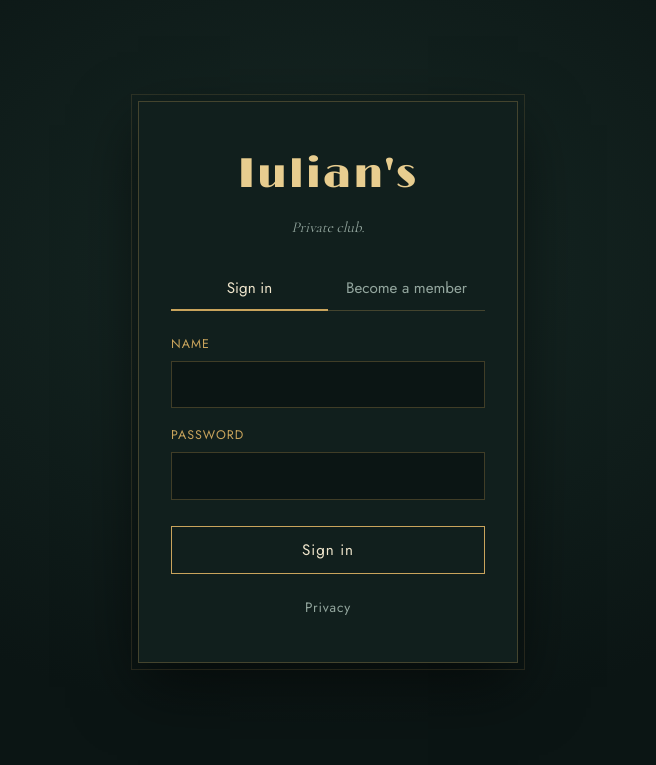
AccessView › hacerse socio pide email, manda el idioma actual y marca el campo que falla
Click the button "Become a member". click: coordinates (406, 289)
box: [328,267,485,311]
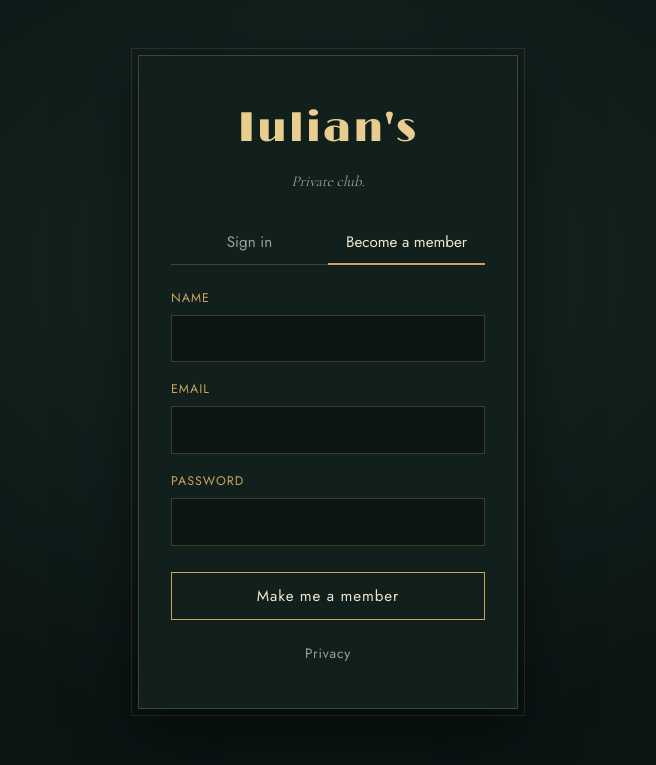
Type "dwight" into the field named "username". click: coordinates (328, 339)
box: [171,315,485,362]
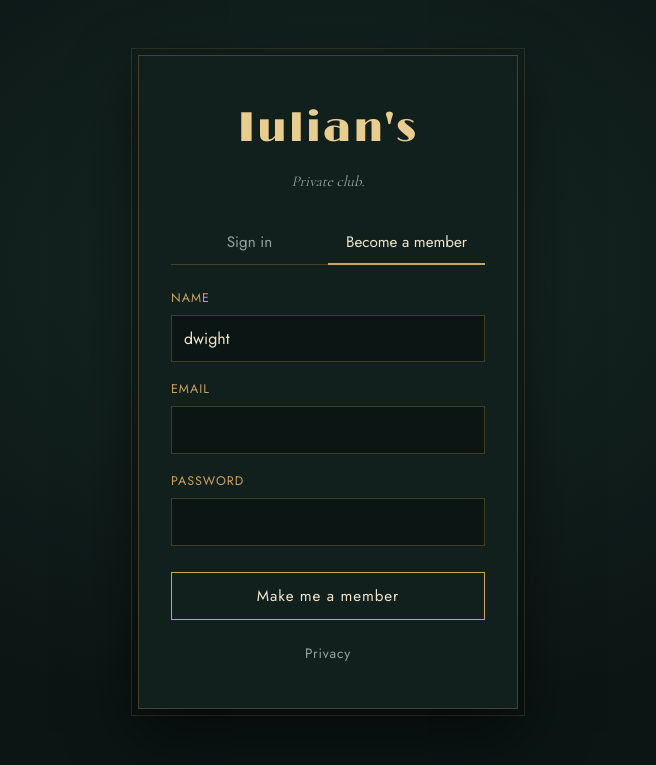
Type "no-es-un-email" into the field named "email". click: coordinates (328, 430)
box: [171,406,485,454]
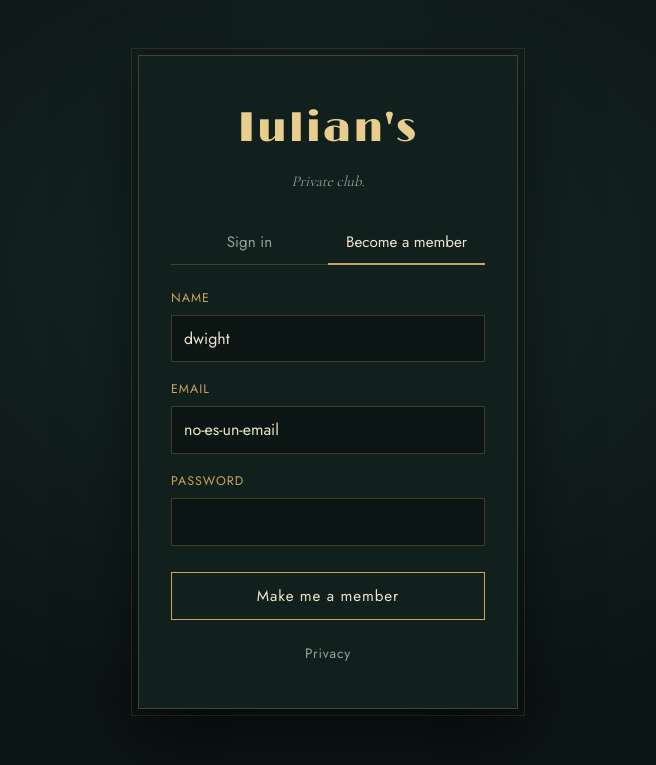
Type "12345678" into the password field named "password". click: coordinates (328, 522)
box: [171,498,485,546]
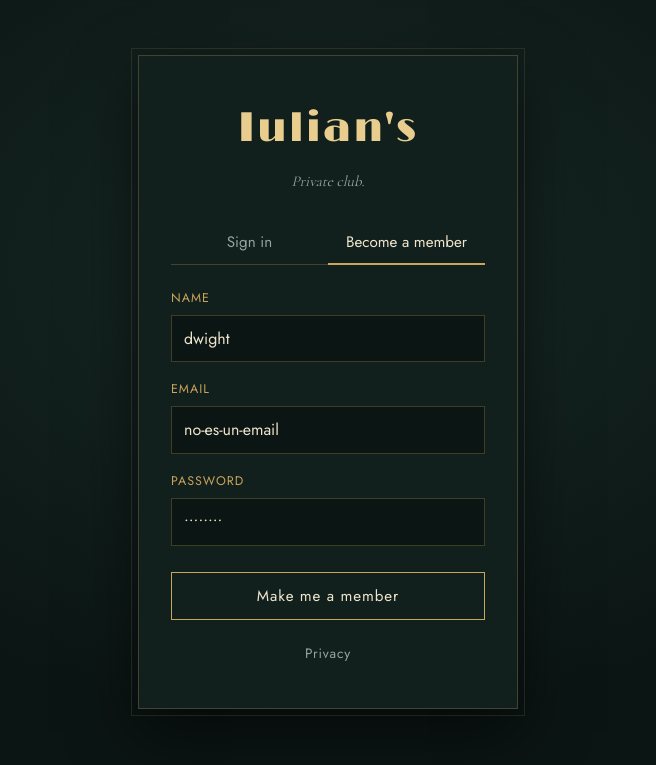
Submit the form, box [171,289,485,620]
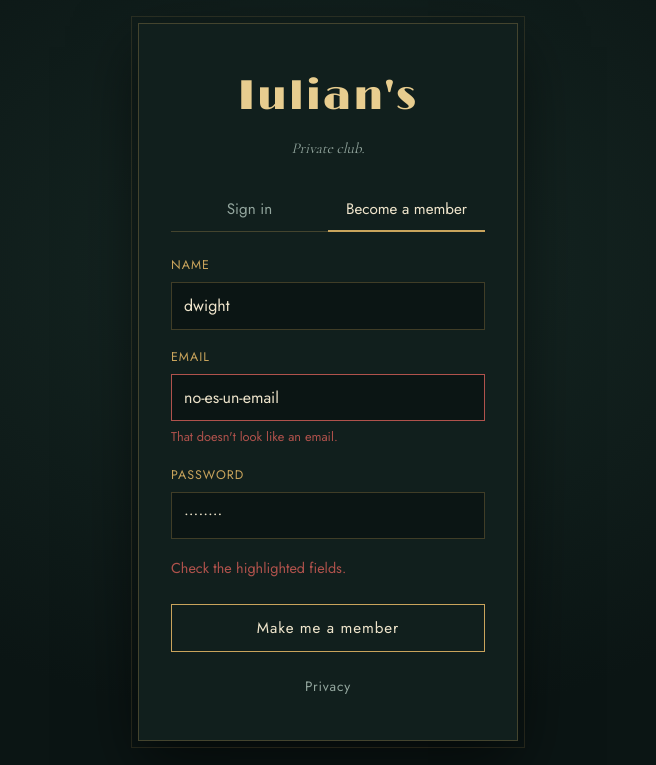
Expected: the text with id "error-email" reads "That doesn't look like an email.", [171,427,338,446]
